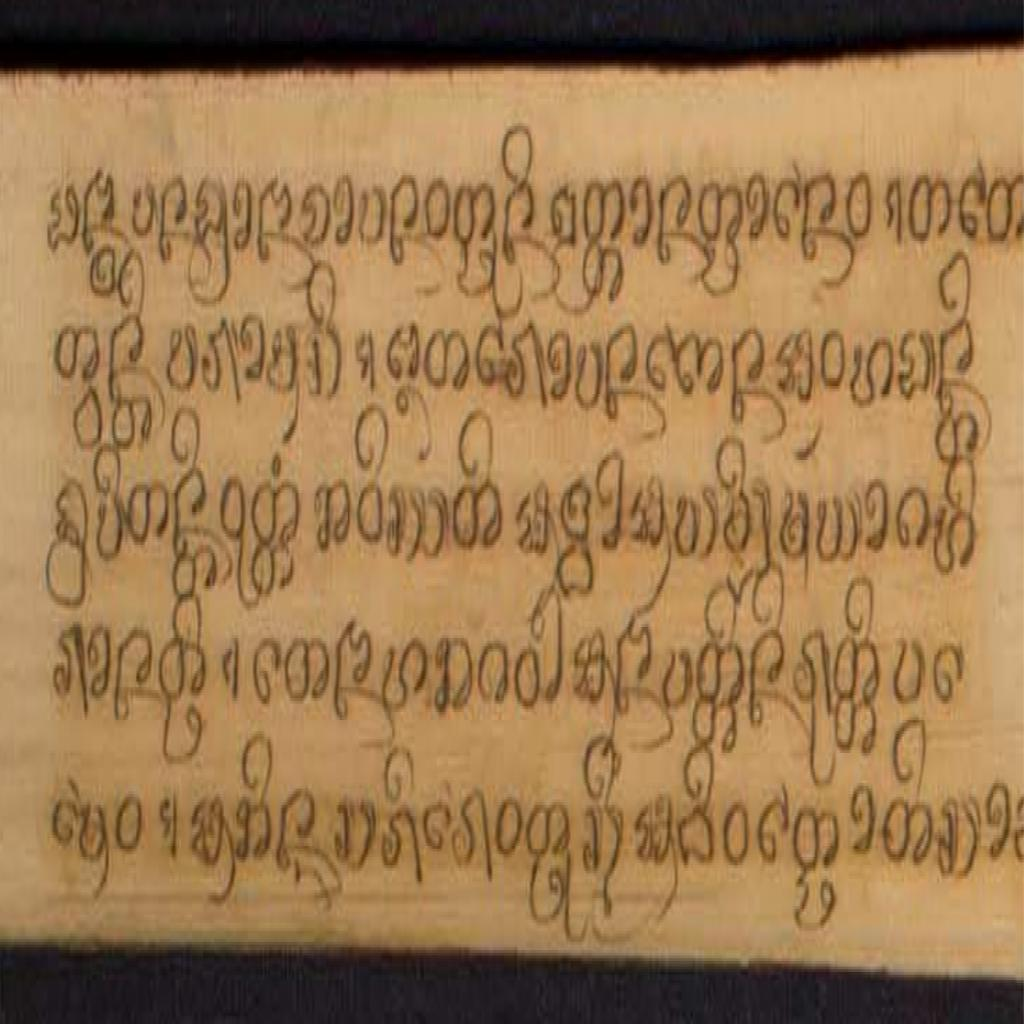LN026: (45, 177, 84, 262)
